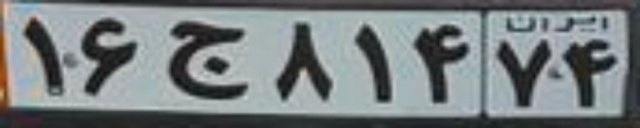1: (350, 22, 393, 101), (22, 15, 63, 96)
4: (411, 23, 470, 104), (562, 37, 619, 108)
6: (80, 16, 138, 97)
7: (492, 38, 552, 106)
8: (273, 21, 334, 104)
jim: (161, 20, 248, 100)
